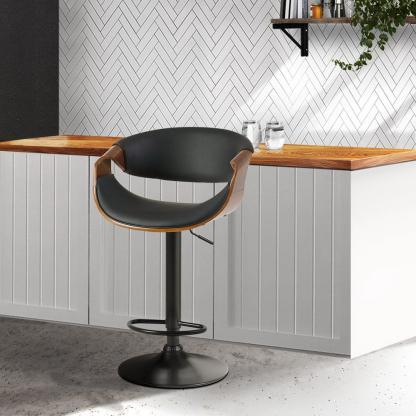chair: (64, 117, 259, 392)
table: (0, 139, 416, 357)
